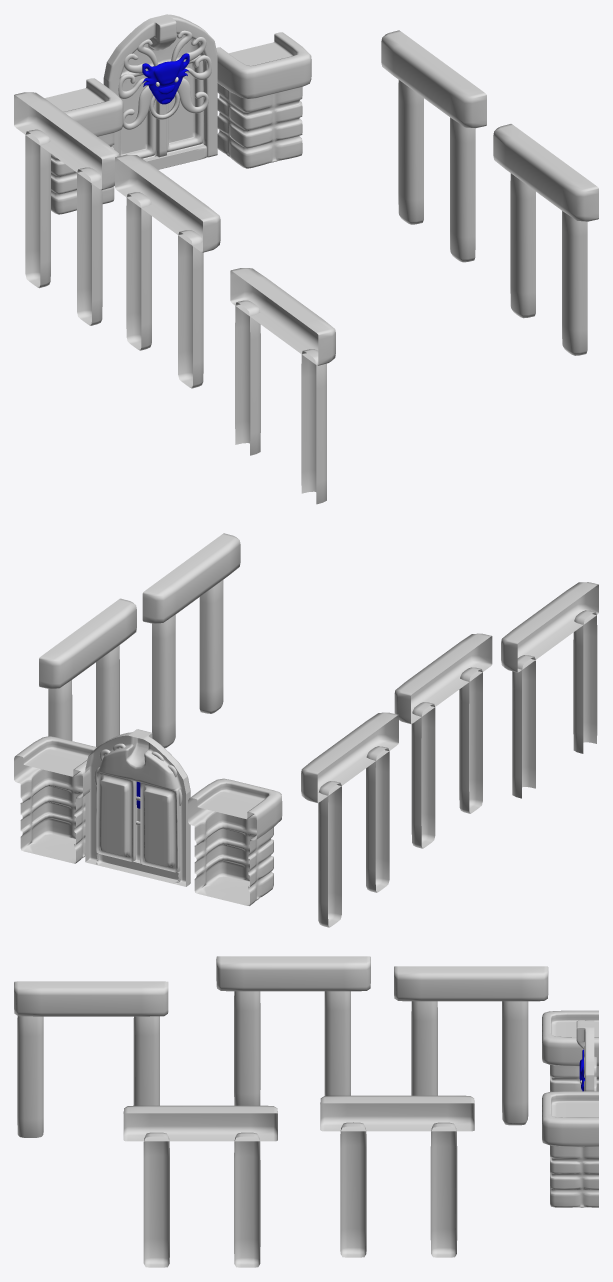
Rendered from Decoracion1.fbx.
3 renders of one model, top to bottom at view 1: azimuth 30°, elevation 25°; view 2: azimuth 150°, elevation 25°; view 3: azimuth 270°, elevation 25°, orthographic. The views are drawn at different scales.
Visible parts, largest first — view 1: Cube, Cube.011, Plane.004, Cube.001, Plane.002, Plane.003; view 2: Cube, Plane.004, Cube.001, Cube.011; view 3: Cube, Cube.011, Cube.001, Plane.004.
Boxes of the visible parts, bbox=[...] form: Cube: bbox=[14, 30, 598, 504]; Cube.011: bbox=[216, 32, 311, 168]; Plane.004: bbox=[103, 14, 217, 169]; Cube.001: bbox=[44, 78, 123, 214]; Plane.002: bbox=[118, 30, 211, 129]; Plane.003: bbox=[142, 53, 189, 104]; Cube: bbox=[39, 533, 598, 927]; Plane.004: bbox=[85, 729, 190, 886]; Cube.001: bbox=[188, 778, 282, 905]; Cube.011: bbox=[14, 736, 96, 863]; Cube: bbox=[14, 956, 548, 1267]; Cube.011: bbox=[542, 1091, 598, 1207]; Cube.001: bbox=[542, 1010, 598, 1091]; Plane.004: bbox=[576, 1020, 596, 1091].
Size of the model in its own units: 935 by 537 by 1573.
